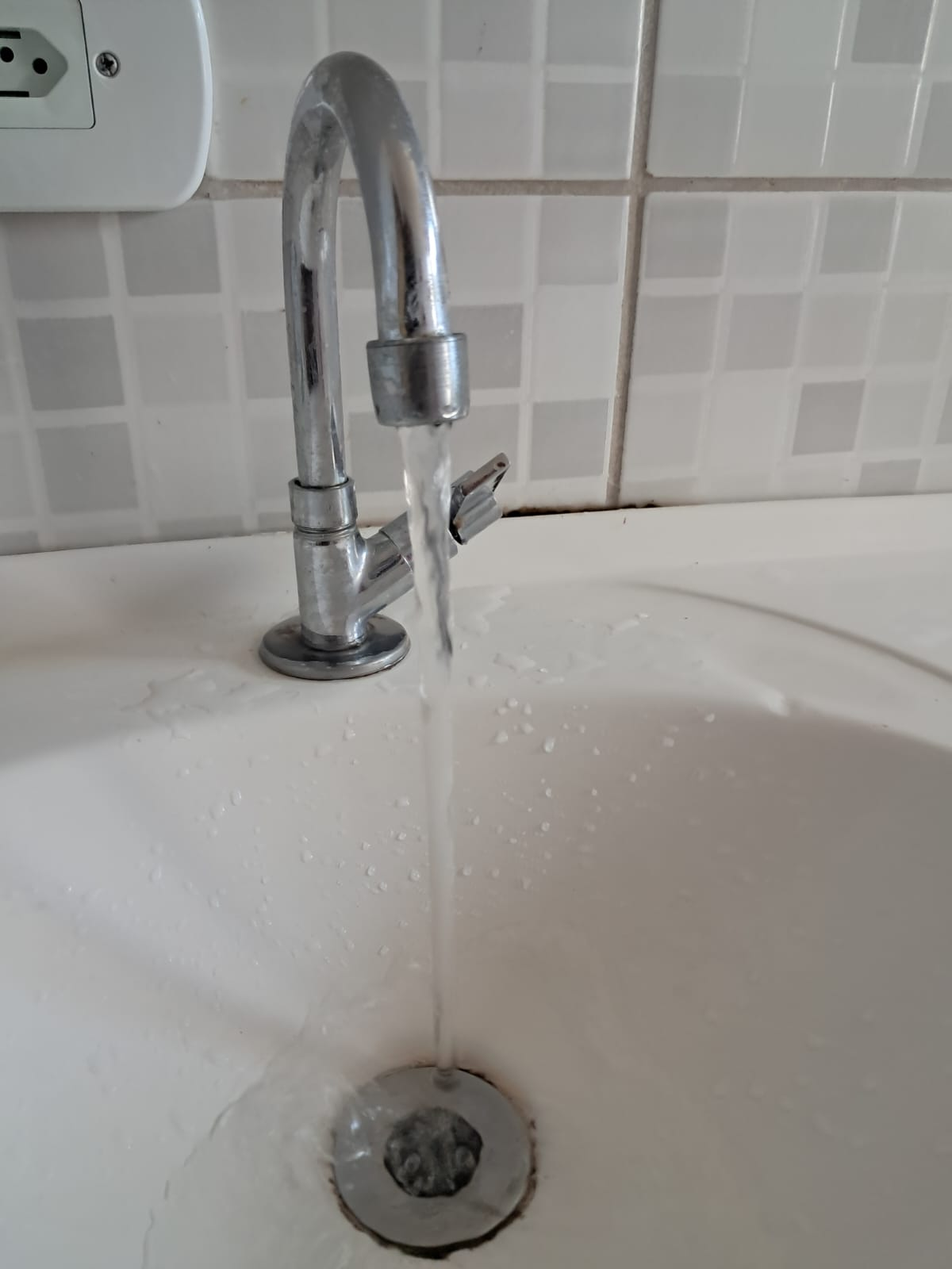torneira_aberta: (154, 32, 581, 711)
